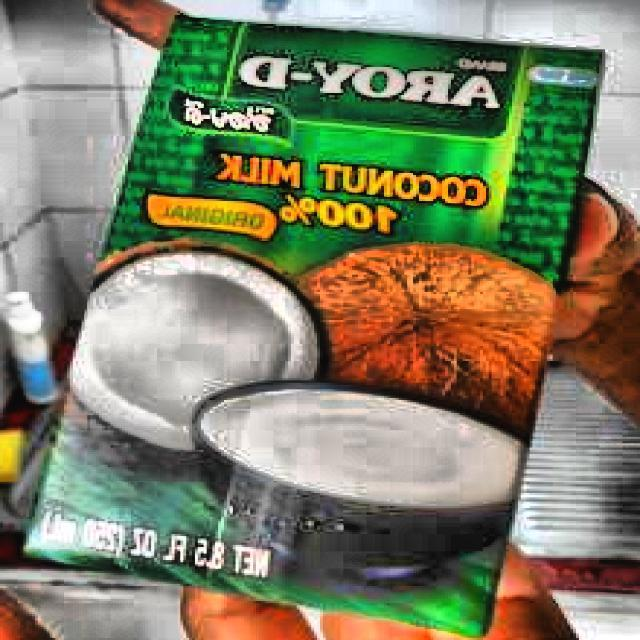cardboard: (17, 2, 611, 638)
